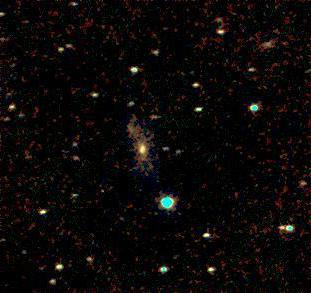star: (87, 175, 117, 205)
